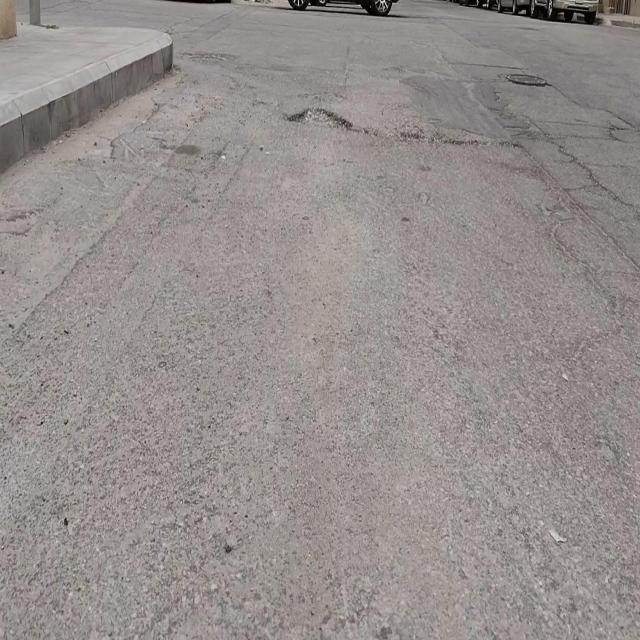Potholes: (286, 107, 352, 132)
